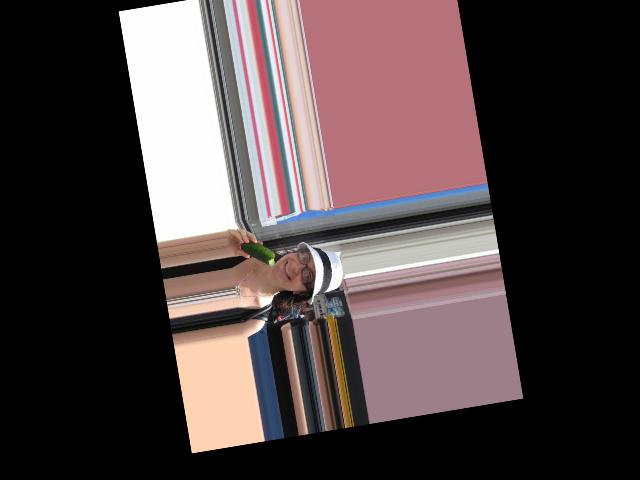cucumber: (240, 237, 276, 270)
